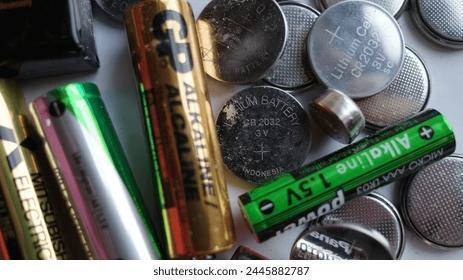AA: (120, 0, 240, 260), (236, 106, 458, 245), (26, 80, 169, 262)
COIN: (212, 83, 316, 186), (306, 0, 408, 100), (194, 0, 291, 86)
